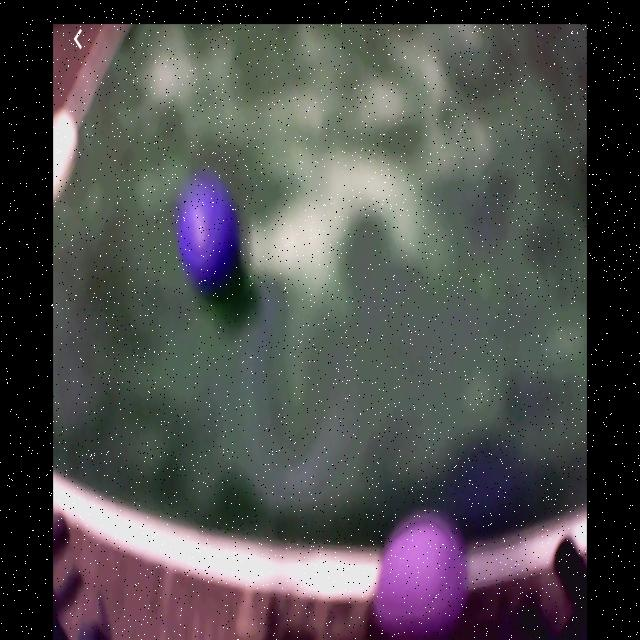ball: (375, 514, 467, 635), (175, 174, 243, 293)
